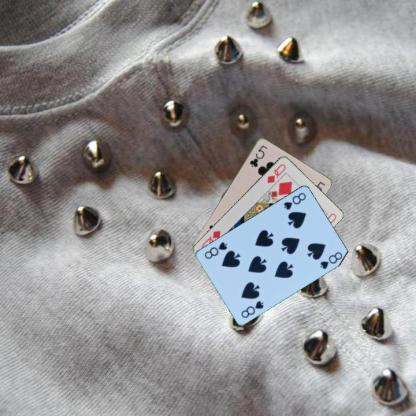5c: (246, 142, 268, 168)
8s: (280, 189, 308, 211), (238, 298, 266, 319)
Qd: (264, 162, 288, 184)
